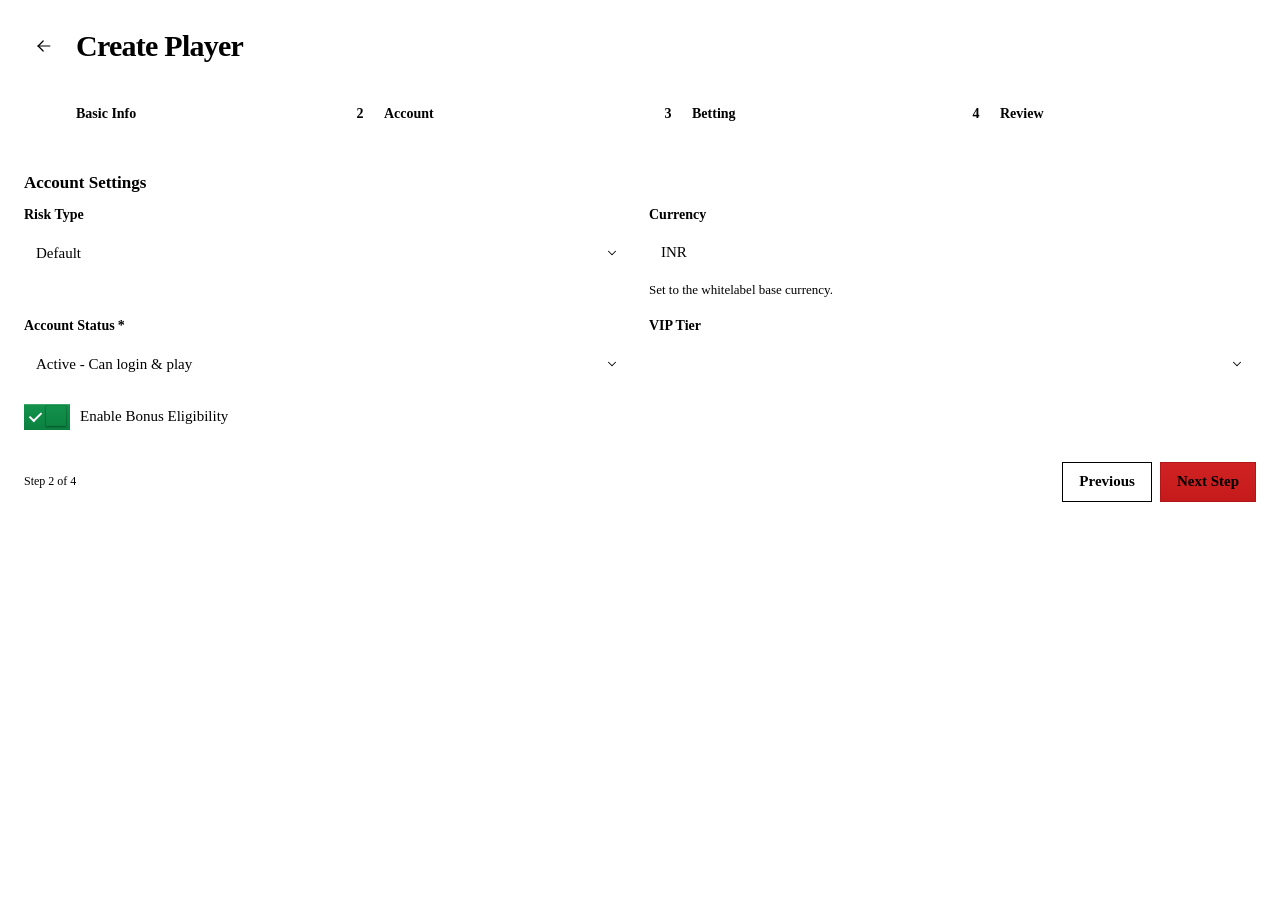
Scenario: complete Player Create workflow › false-success admin responses keep the draft and review instead of clearing it
Earlier steps of the test are not shown.
Later steps or results of the test are not shown.
Expected: the heading "Account Settings" is shown, [24, 173, 146, 193]
Click the button "Next Step" at (1208, 482), box [1160, 462, 1256, 502]
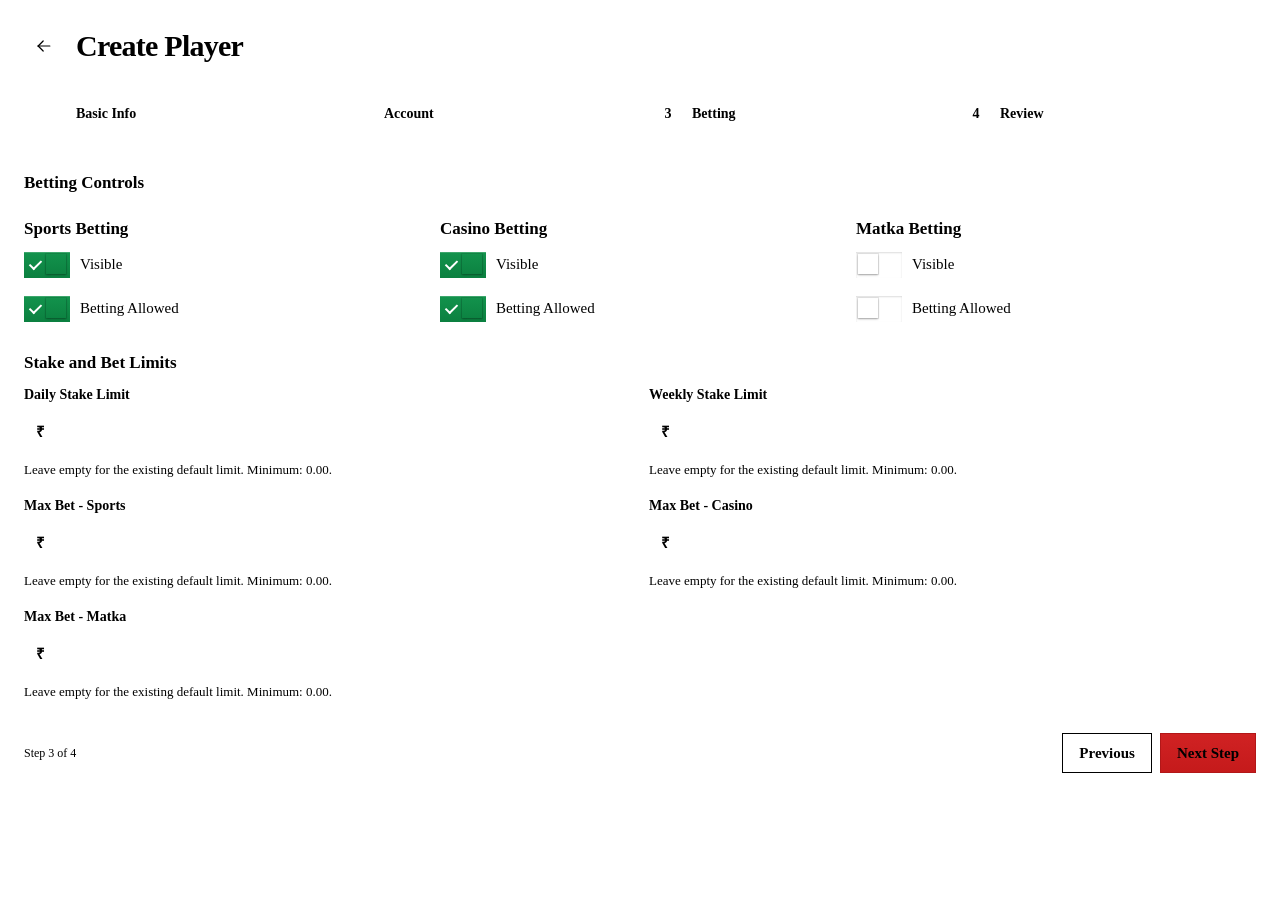
Expected: the heading "Betting Controls" is shown, [24, 173, 144, 193]
